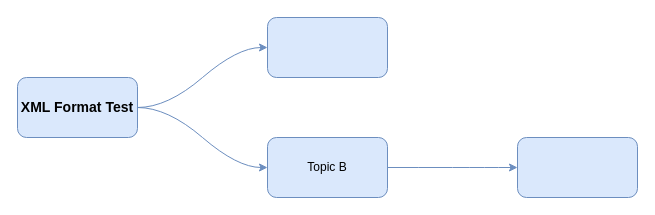
This 655x215 diagram has some shape labels left out. Each missing label, with the centre of its shape:
Subtopic B1: the point at 577,167
Topic A: the point at 327,47
